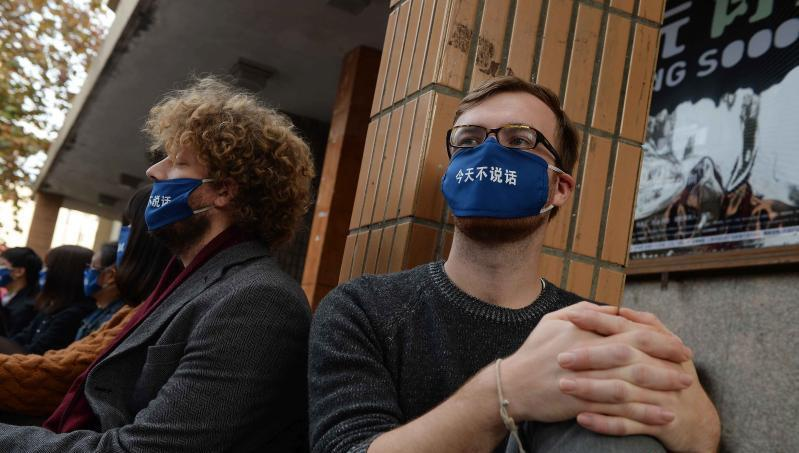OK: (446, 116, 556, 226), (83, 250, 109, 296), (1, 254, 26, 291)
WRONG: (147, 134, 213, 246)
